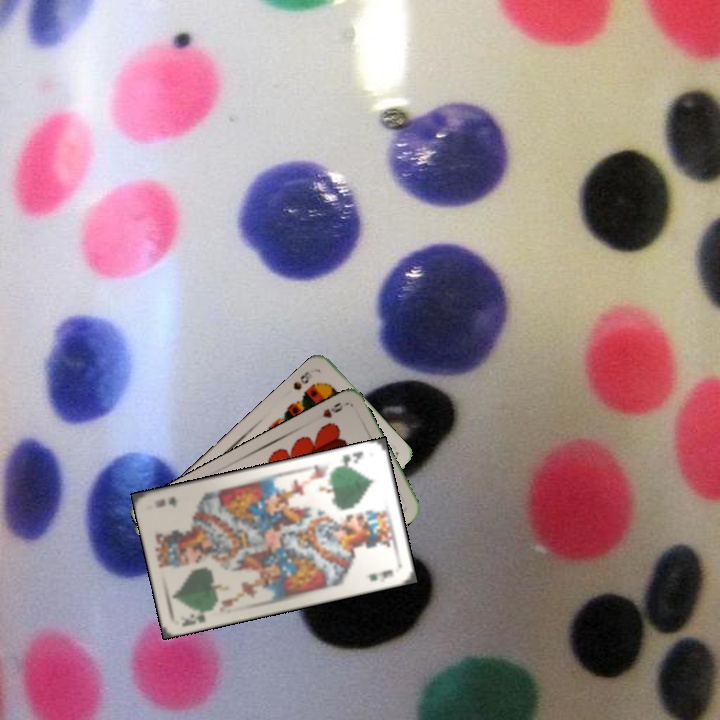GK: (177, 606, 214, 629), (333, 447, 365, 469)
H9: (319, 398, 345, 421)
S8: (289, 367, 315, 393)
